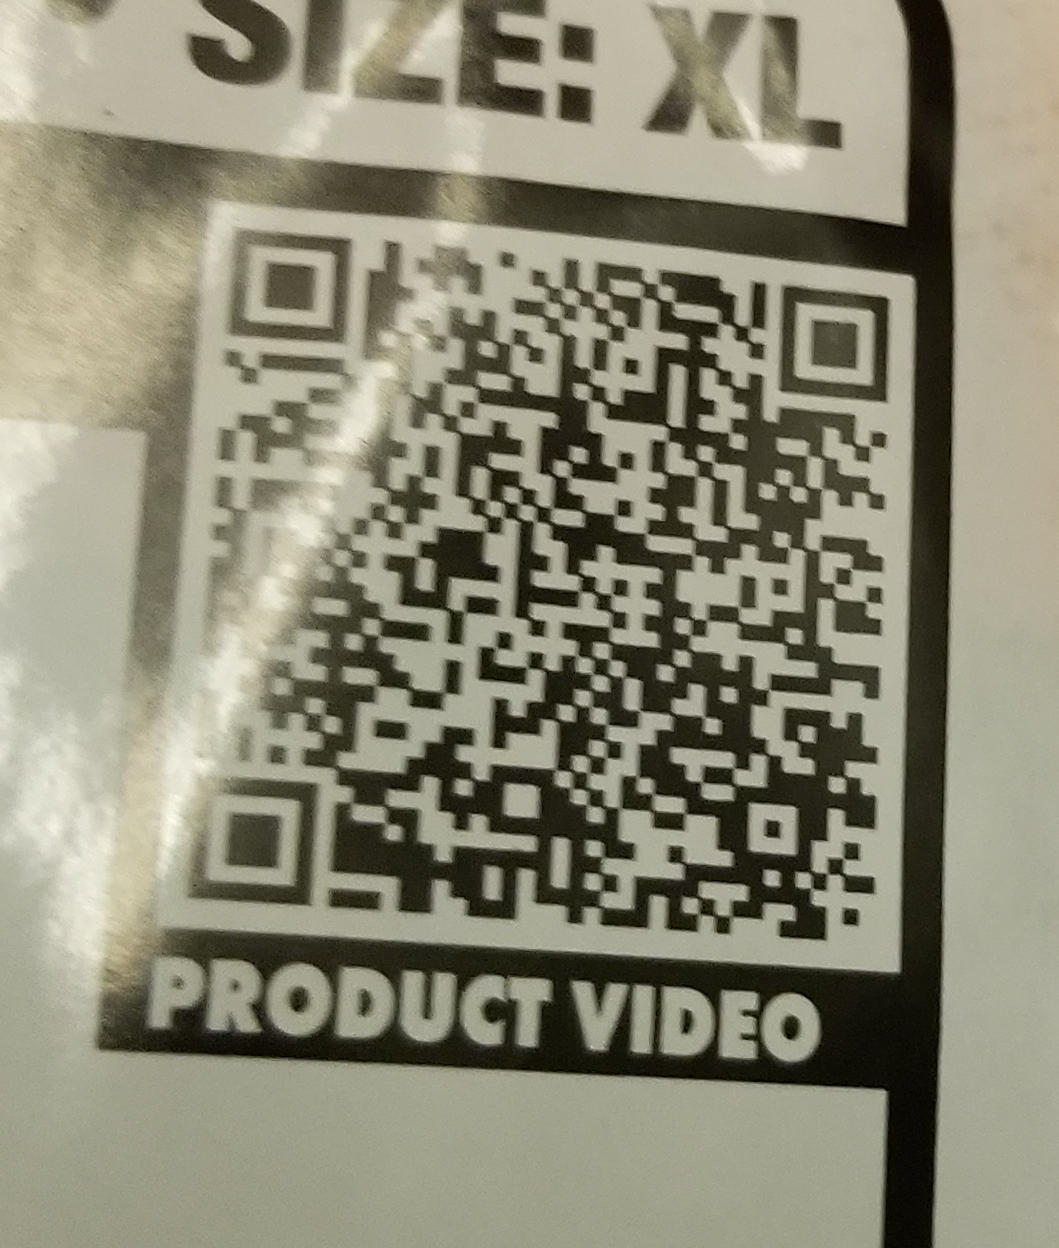QR_CODE: (151, 184, 935, 994)
